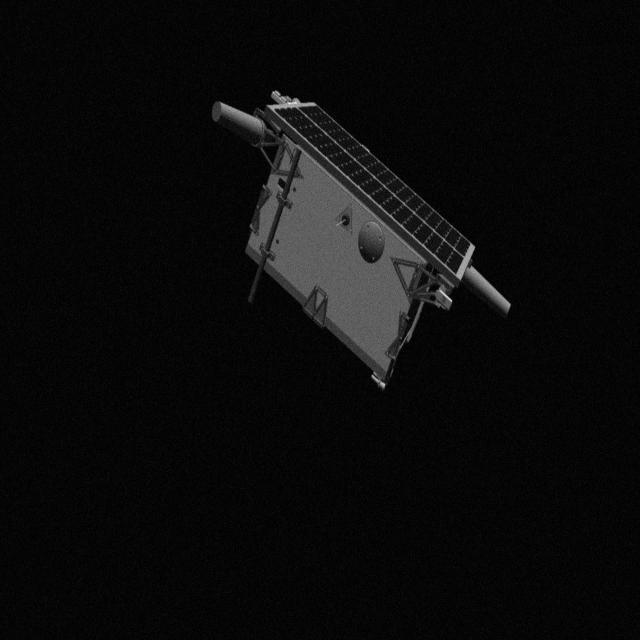medium_debris: (202, 82, 518, 388)
